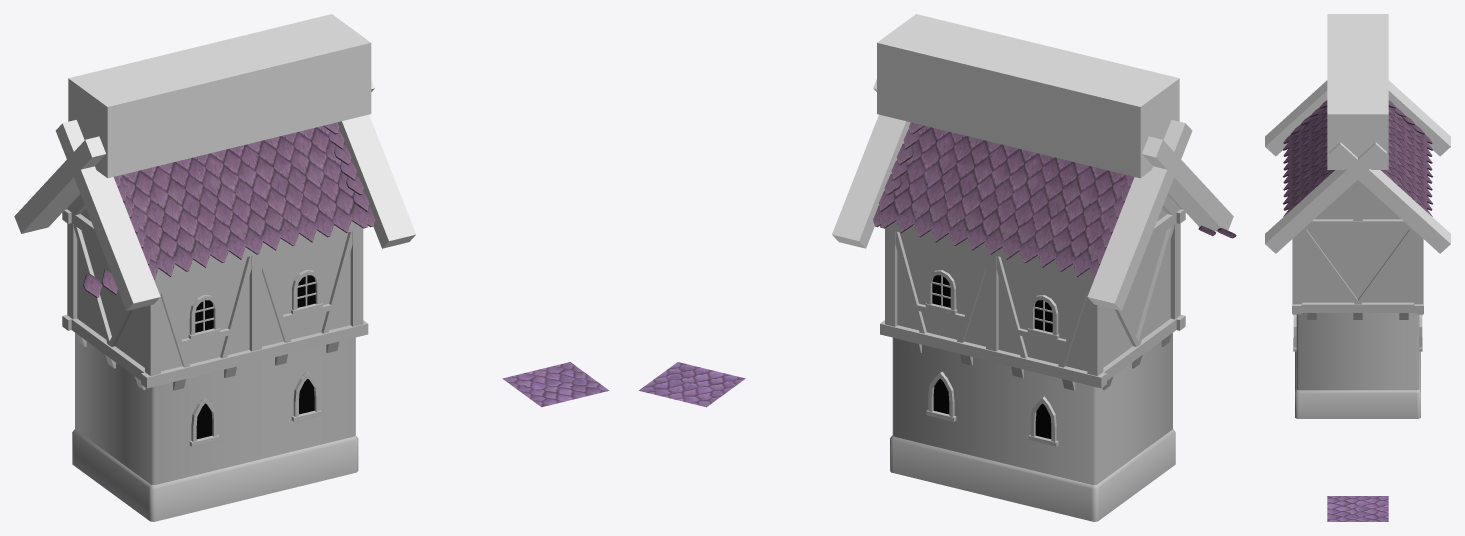
Rendered from small_house_010.fbx.
3 renders of one model, left to right at view 1: azimuth 30°, elevation 25°; view 2: azimuth 150°, elevation 25°; view 3: azimuth 270°, elevation 25°, orthographic. The views are drawn at different scales.
Visible parts, largest first — view 1: Cube.002, Roof_Scaled_Up, Moss_Foundation, Stone_Wall, Cube, Stone_Wall.001, Stone_Wall.002, Plaster_Wall, Plaster_Wall.002, Plaster_Wall.001, Cube.001, Wooden_Beam_Long (+8 smaller); view 2: Cube.002, Roof_Scaled_Up, Moss_Foundation, Stone_Wall, Cube, Stone_Wall.001, Stone_Wall.002, Plaster_Wall, Plaster_Wall.002, Plaster_Wall.001, Cube.001, Wooden_Beam_Long (+8 smaller); view 3: Cube.002, Cube.001, Roof_Scaled_Up, Moss_Foundation, Stone_Wall, Stone_Wall.001, Plaster_Wall.002, Cube, Stone_Wall.002, Plaster_Wall, Plaster_Wall.001, Plane.011 (+12 smaller).
Boxes of the visible parts, bbox=[...] form: Cube.002: bbox=[68, 14, 371, 178]; Roof_Scaled_Up: bbox=[120, 125, 363, 262]; Moss_Foundation: bbox=[72, 429, 358, 521]; Stone_Wall: bbox=[75, 394, 355, 485]; Cube: bbox=[14, 120, 160, 310]; Stone_Wall.001: bbox=[75, 358, 355, 449]; Stone_Wall.002: bbox=[75, 333, 355, 413]; Plaster_Wall: bbox=[77, 288, 350, 371]; Plaster_Wall.002: bbox=[77, 253, 350, 340]; Plaster_Wall.001: bbox=[77, 230, 350, 305]; Cube.001: bbox=[337, 79, 415, 248]; Wooden_Beam_Long: bbox=[62, 315, 368, 388]; Cube.002: bbox=[877, 14, 1179, 178]; Roof_Scaled_Up: bbox=[884, 125, 1127, 262]; Moss_Foundation: bbox=[890, 429, 1175, 521]; Stone_Wall: bbox=[892, 394, 1172, 485]; Cube: bbox=[1087, 119, 1233, 310]; Stone_Wall.001: bbox=[892, 358, 1172, 449]; Stone_Wall.002: bbox=[892, 333, 1172, 413]; Plaster_Wall: bbox=[897, 288, 1170, 371]; Plaster_Wall.002: bbox=[897, 253, 1170, 340]; Plaster_Wall.001: bbox=[897, 230, 1170, 305]; Cube.001: bbox=[832, 79, 910, 248]; Wooden_Beam_Long: bbox=[880, 315, 1185, 388]; Cube.002: bbox=[1327, 14, 1388, 169]; Cube.001: bbox=[1265, 142, 1450, 253]; Roof_Scaled_Up: bbox=[1293, 107, 1422, 207]; Moss_Foundation: bbox=[1295, 351, 1420, 418]; Stone_Wall: bbox=[1296, 362, 1419, 390]; Stone_Wall.001: bbox=[1296, 334, 1419, 362]; Plaster_Wall.002: bbox=[1302, 251, 1413, 279]; Cube: bbox=[1265, 80, 1450, 156]; Stone_Wall.002: bbox=[1296, 313, 1419, 334]; Plaster_Wall: bbox=[1302, 279, 1413, 302]; Plaster_Wall.001: bbox=[1302, 229, 1413, 251]; Plane.011: bbox=[1327, 496, 1388, 521].
Bounding box in the file's own units: 606 × 1139 × 1589.
